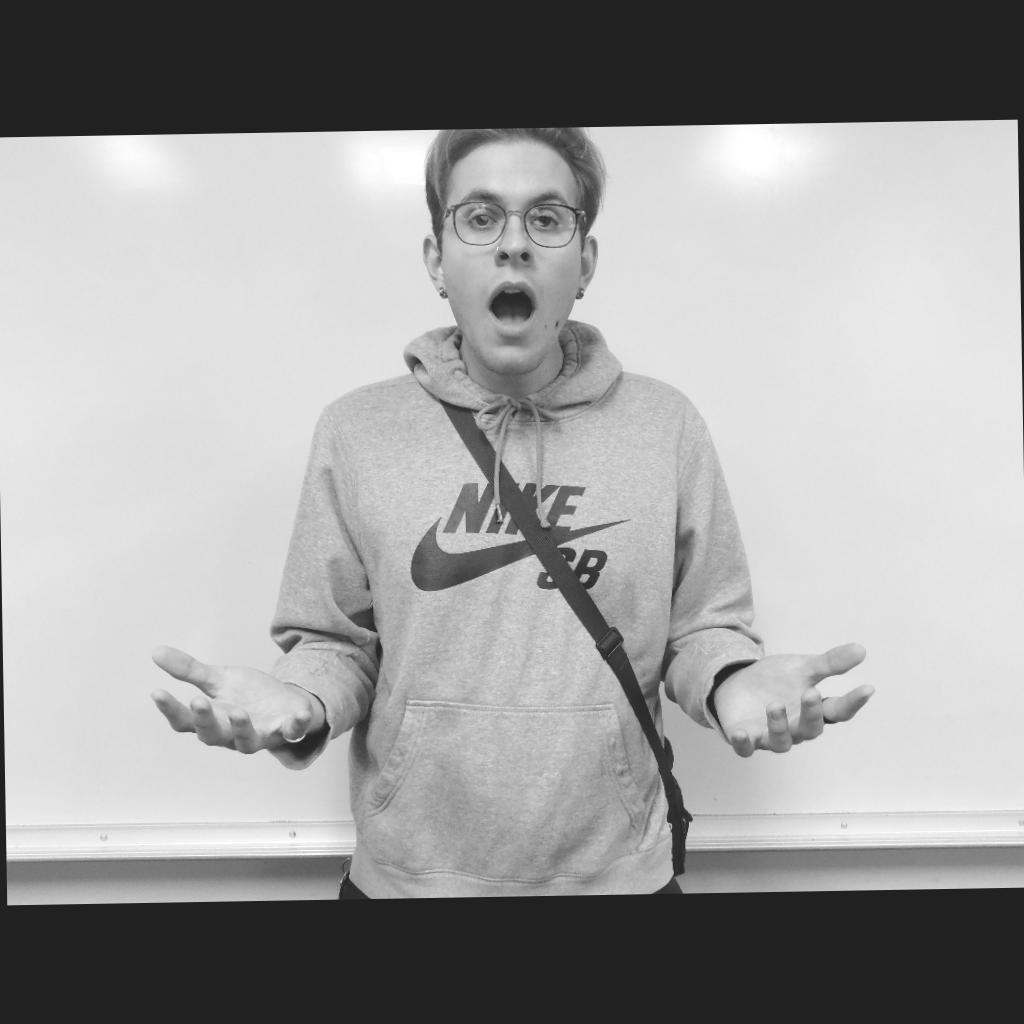want: (151, 632, 878, 768)
